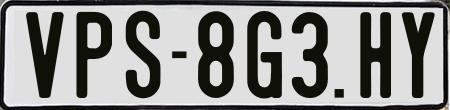3: (290, 12, 329, 101)
8: (195, 10, 236, 101)
G: (246, 9, 287, 102)
H: (357, 9, 393, 95)
P: (76, 12, 113, 100)
S: (125, 9, 165, 96)
V: (23, 12, 61, 98)
Y: (402, 12, 436, 98)
